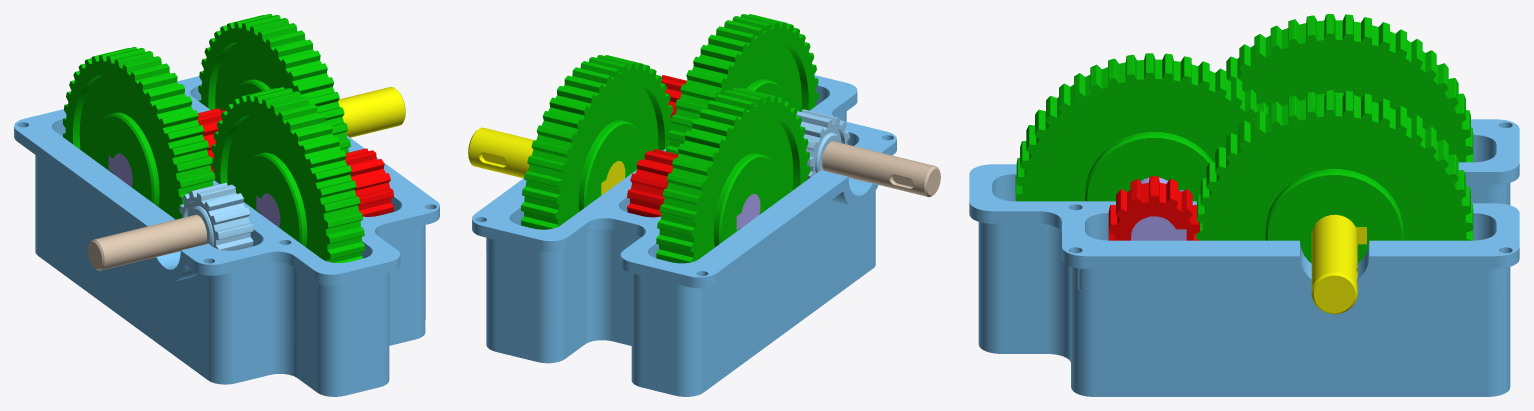
Rendered from gear-speed-reduction.glb.
3 renders of one model, left to right at view 1: azimuth 30°, elevation 25°; view 2: azimuth 150°, elevation 25°; view 3: azimuth 270°, elevation 25°, orthographic. The views are drawn at different scales.
Visible parts, largest first — view 1: housing, output gear (×3), input shaft, input gear, middle gear (×2), output shaft, speed shaft (×2); view 2: housing, output gear (×3), input shaft, output shaft, middle gear (×2), input gear, speed shaft; view 3: housing, output gear (×3), output shaft, middle gear, speed shaft.
Part boxes in pixels (left/top/right/bottom): housing: left=14, top=76, right=439, bottom=396; output gear (×3): left=63, top=14, right=364, bottom=262; input shaft: left=88, top=212, right=207, bottom=270; input gear: left=179, top=182, right=253, bottom=250; middle gear (×2): left=197, top=108, right=393, bottom=216; output shaft: left=338, top=87, right=405, bottom=137; speed shaft (×2): left=108, top=153, right=280, bottom=227; housing: left=472, top=75, right=896, bottom=396; output gear (×3): left=521, top=14, right=818, bottom=263; input shaft: left=821, top=139, right=940, bottom=197; output shaft: left=468, top=127, right=625, bottom=195; middle gear (×2): left=627, top=75, right=686, bottom=217; input gear: left=796, top=109, right=849, bottom=179; speed shaft: left=736, top=194, right=760, bottom=230; housing: left=969, top=119, right=1519, bottom=396; output gear (×3): left=1015, top=14, right=1473, bottom=263; output shaft: left=1311, top=214, right=1366, bottom=314; middle gear: left=1108, top=176, right=1199, bottom=240; speed shaft: left=1131, top=177, right=1186, bottom=240.
Size of the model in its own units: 0.1096 by 0.065 by 0.119.
